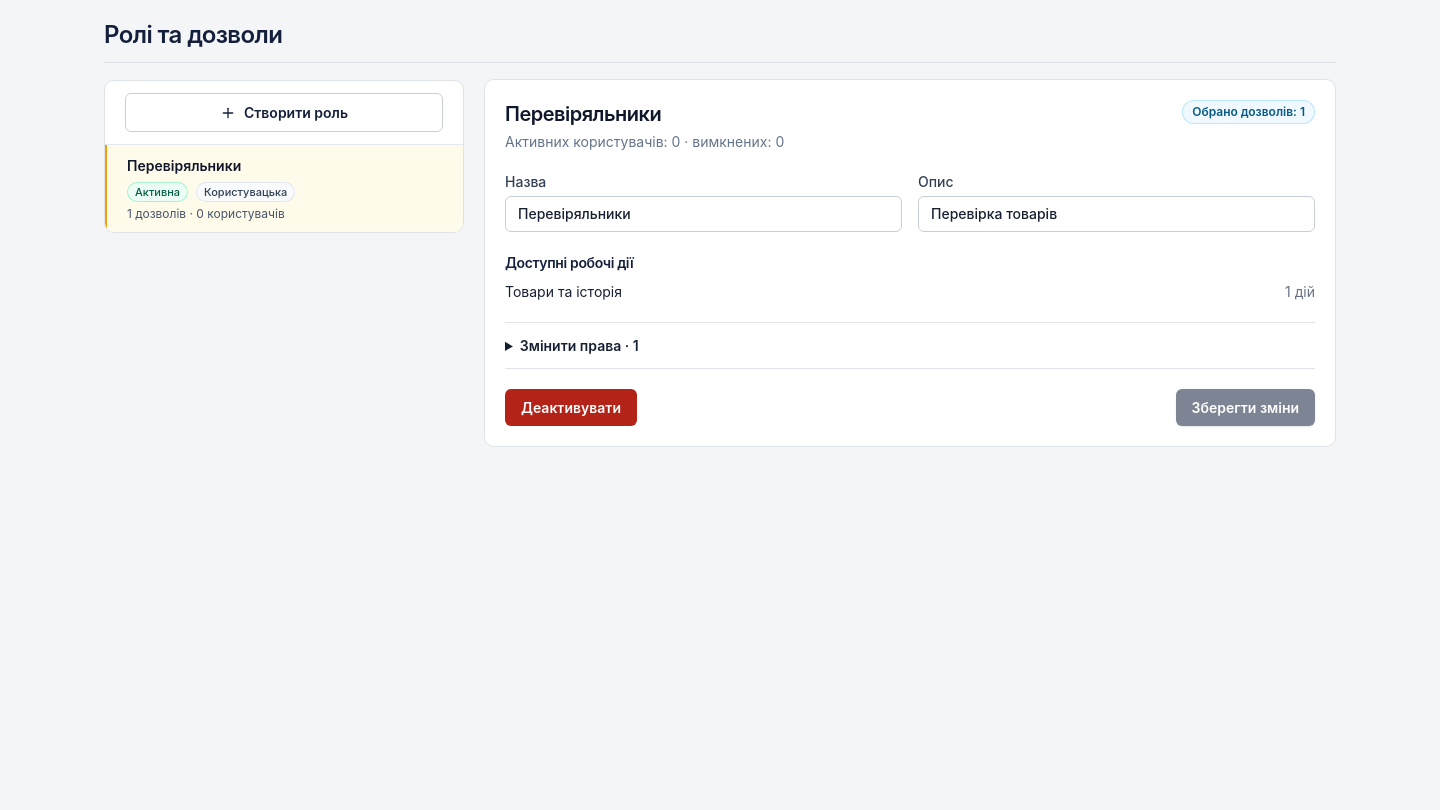
Scenario: cancels deactivation without a write, then submits the exact reviewed role version once
Expected: the list named "Ролі" is shown, [105,145,463,232]
Click the button "Деактивувати". click: (571, 408)
box: [505,389,637,426]
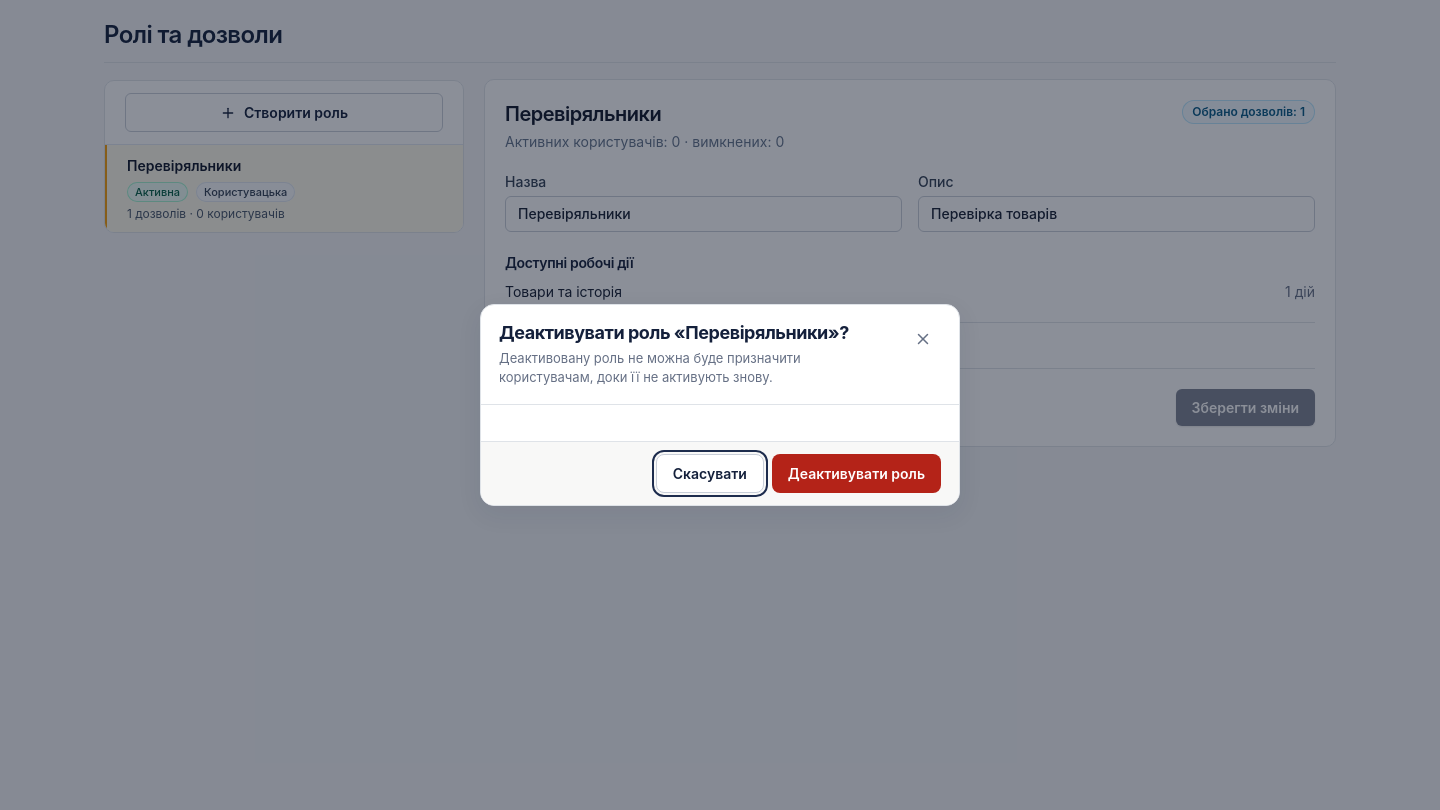
Click the button "Скасувати". click: (710, 473)
box: [656,454,764,493]
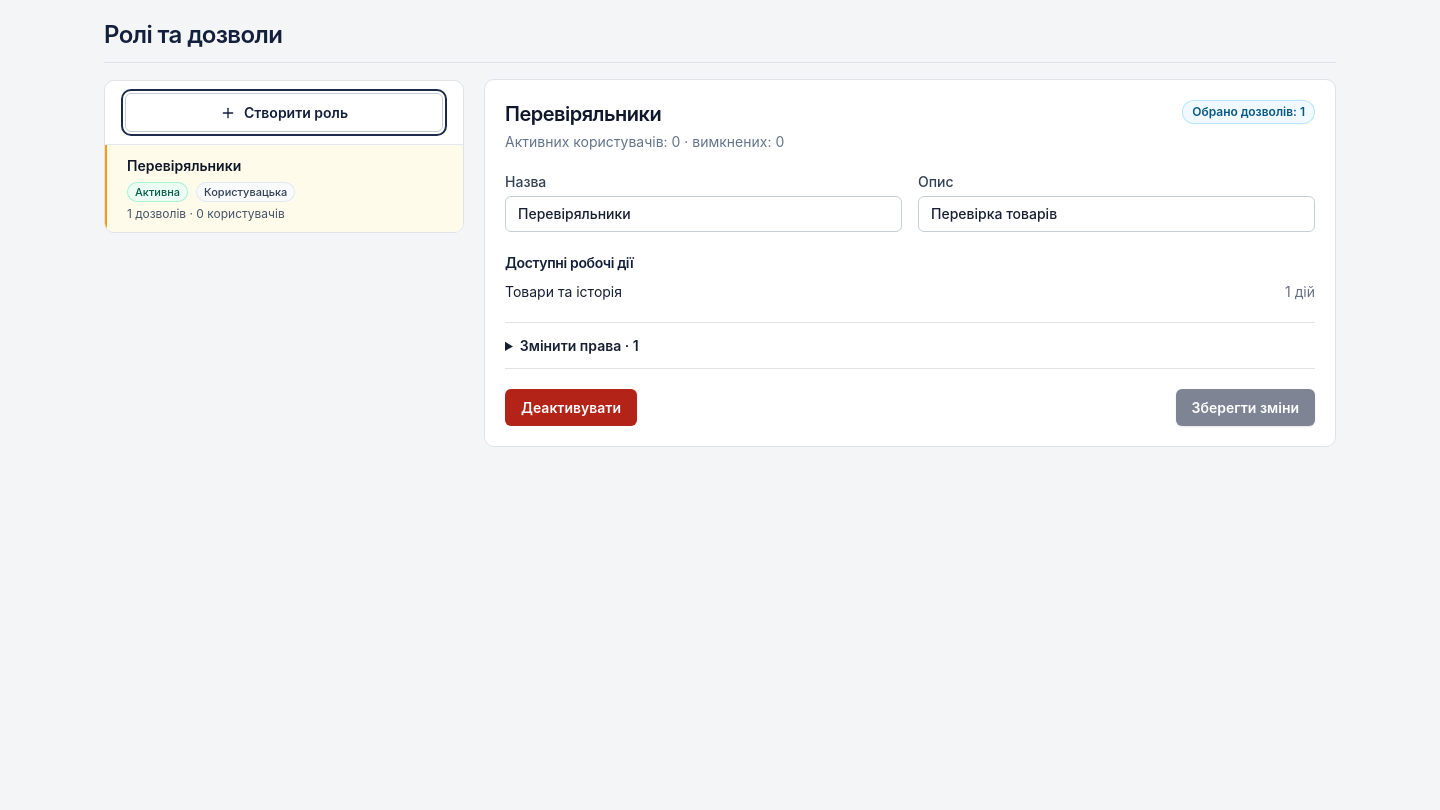
Result: the dialog is gone
Click the button "Деактивувати". click: (571, 408)
box: [505,389,637,426]
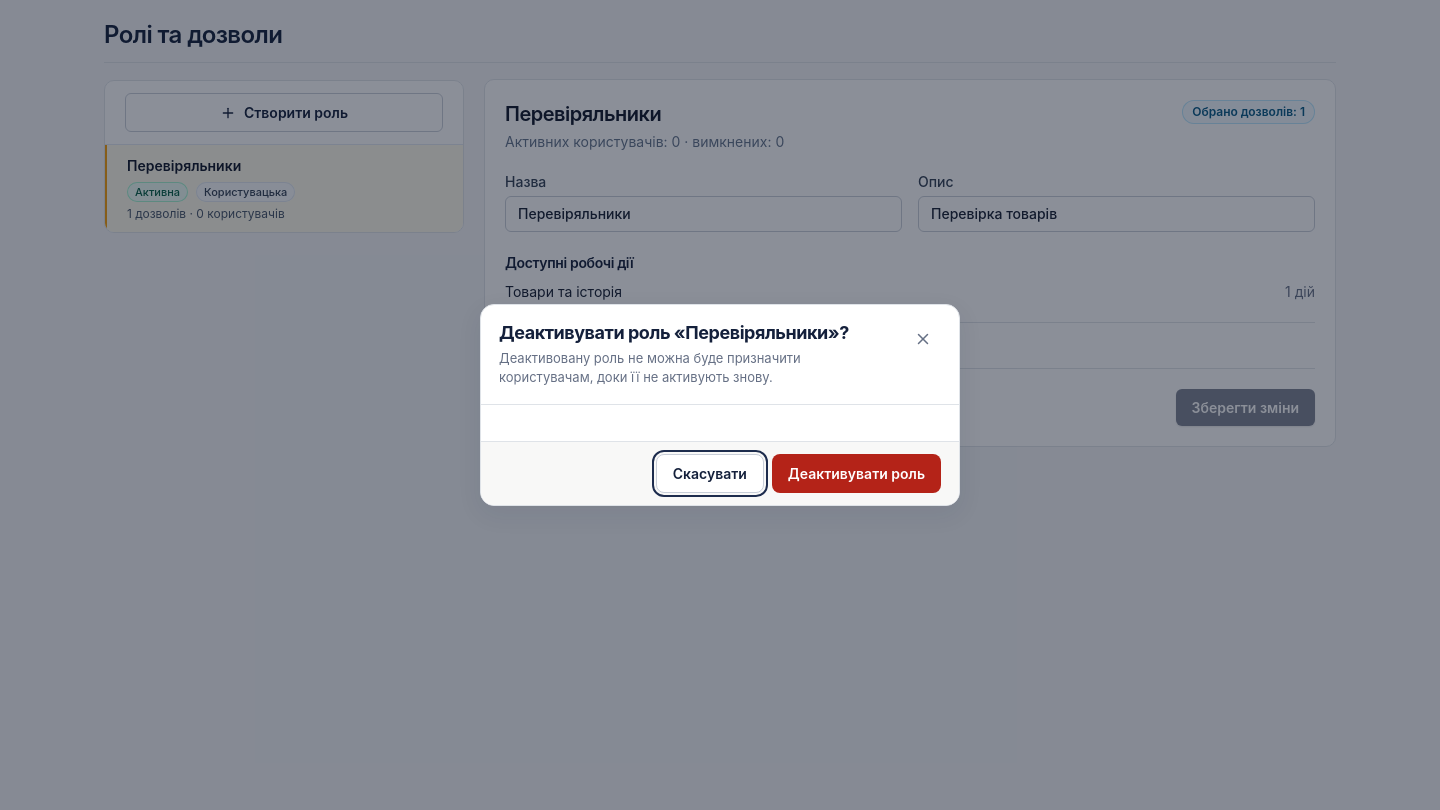
Click the button "Деактивувати роль". click: (856, 473)
box: [772,454,941,493]
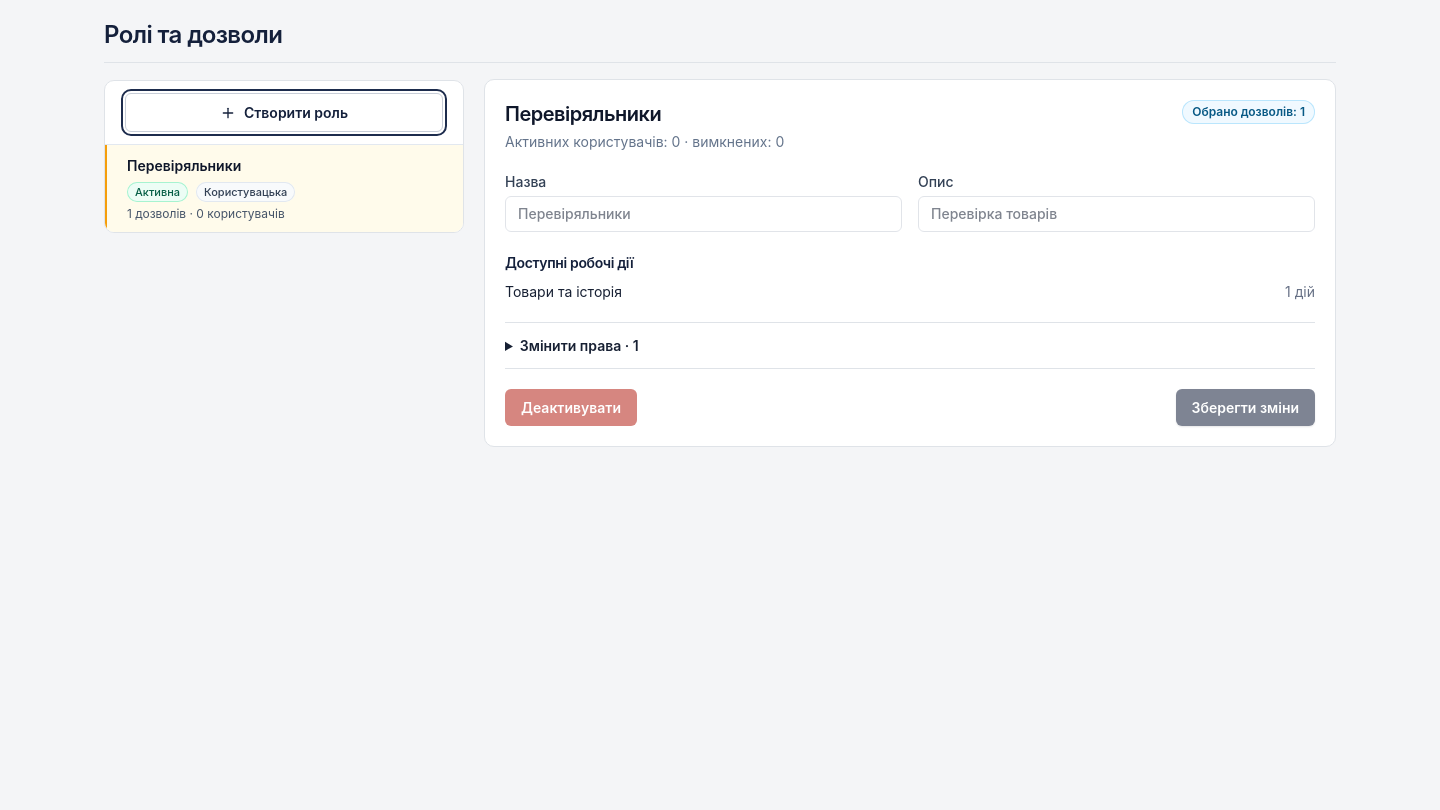
Result: the button "Деактивувати" is disabled
Click the button "Деактивувати". click: (571, 408)
box: [505,389,637,426]
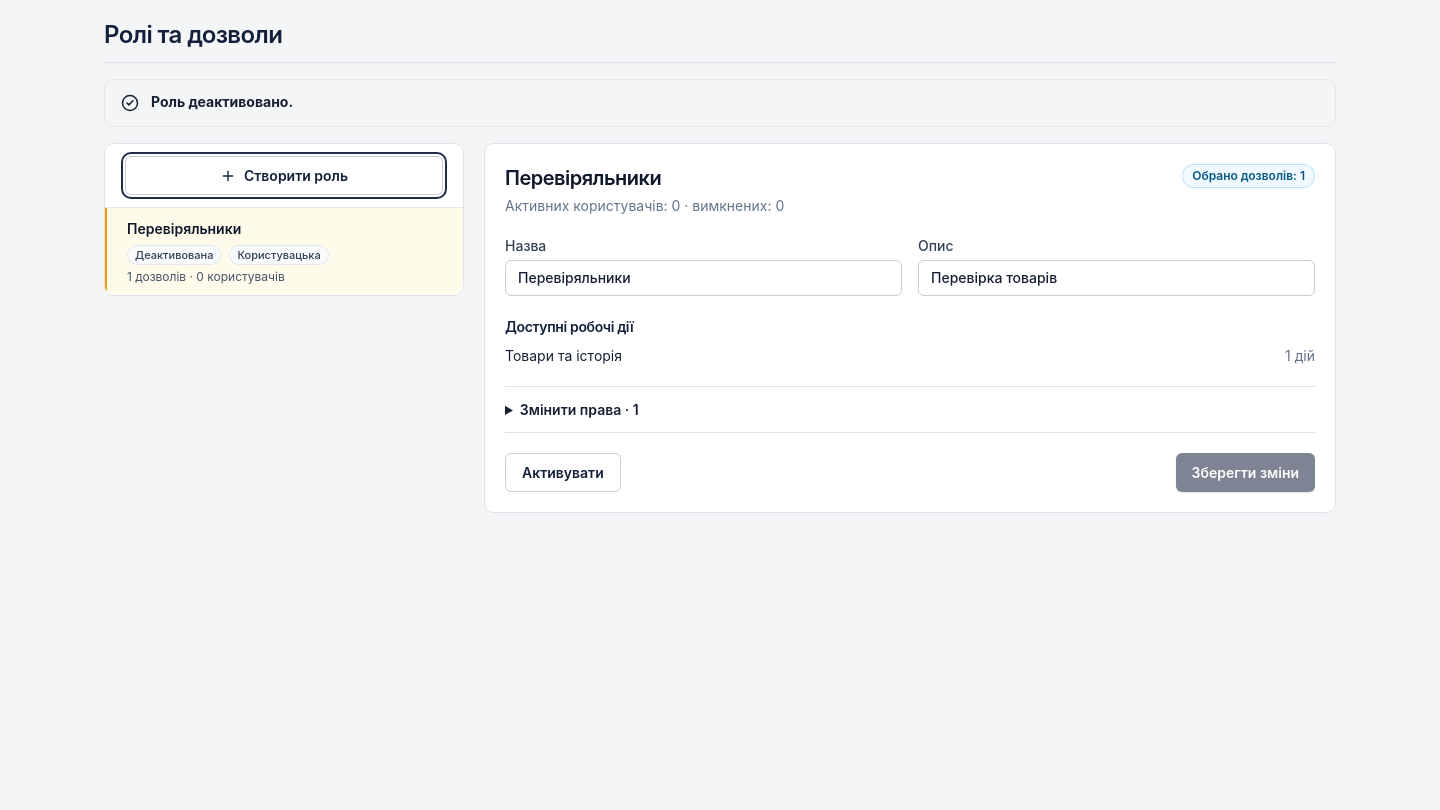
Result: the text "Роль деактивовано." is shown at [151,93,293,110]
Result: the button "Активувати" is enabled at [505,453,621,492]
Result: the button "Деактивувати" is gone
